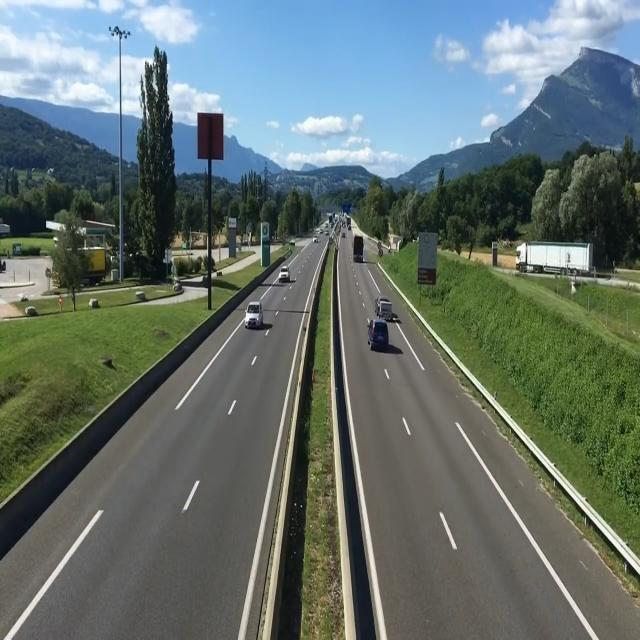Car: (366, 318, 389, 352), (244, 300, 264, 331), (278, 265, 292, 284), (312, 234, 318, 243)
Truck: (515, 239, 593, 276), (375, 294, 394, 321), (353, 233, 364, 264)
